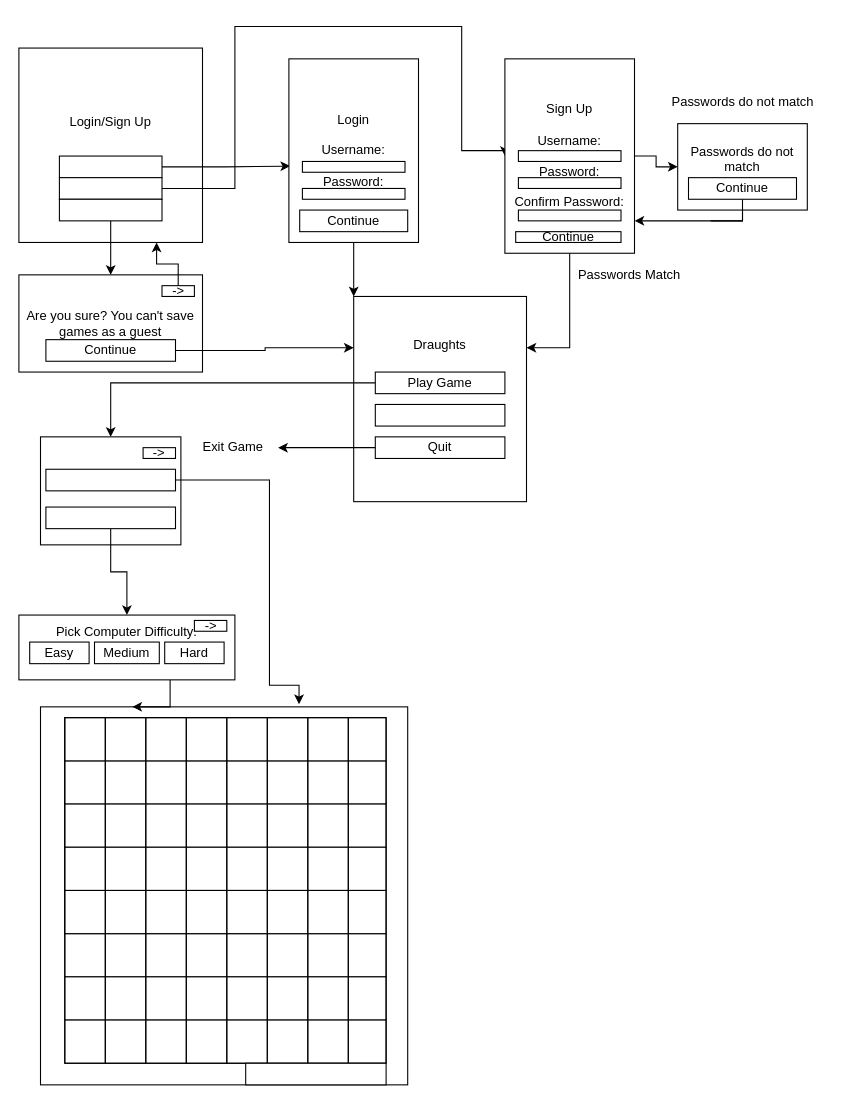
Image size: 842x1104. Some labels were removed from this diagram. Here are the shapes that lost their labels. From the top down, the centre of each, then its label:
(x=110, y=166): Login
(x=110, y=188): Sign Up
(x=110, y=209): Cont. as guest
(x=439, y=414): Rules
(x=110, y=479): Player vs Player
(x=110, y=517): Player vs Computer
(x=315, y=1073): Turn:
